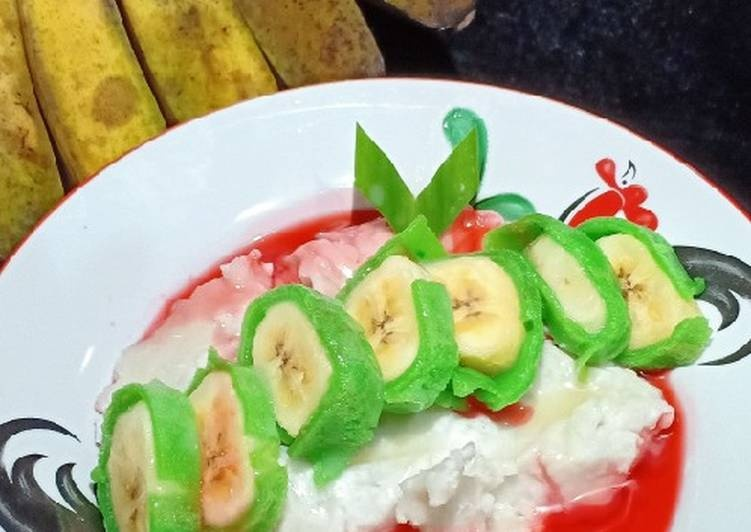pisang_ijo: (218, 280, 379, 471)
